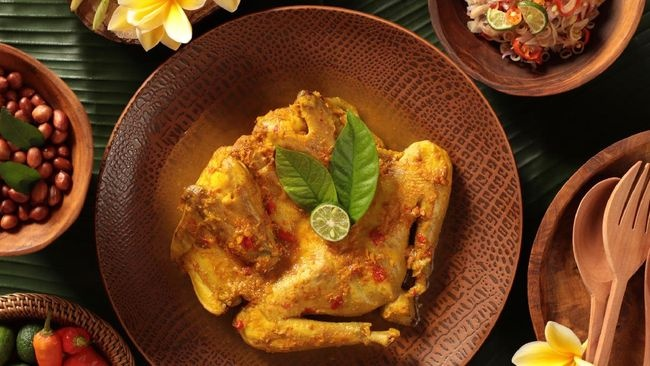ayam_betutu: (172, 93, 453, 353)
